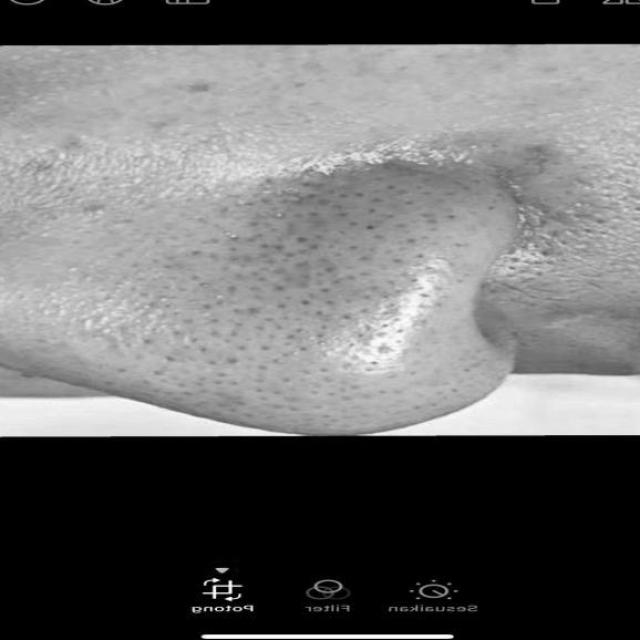blackhead: (89, 168, 453, 415)
